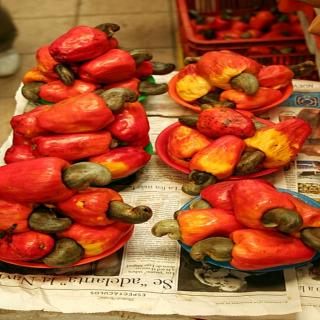Bell pepper: (0, 160, 154, 268), (144, 107, 314, 194), (153, 183, 319, 269), (2, 89, 149, 179), (21, 22, 174, 102), (174, 53, 314, 111)
